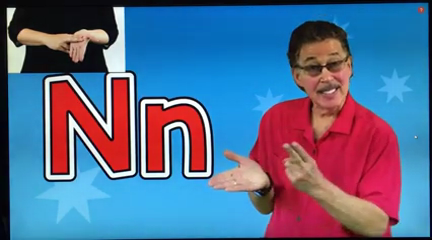N: (48, 26, 99, 68)
